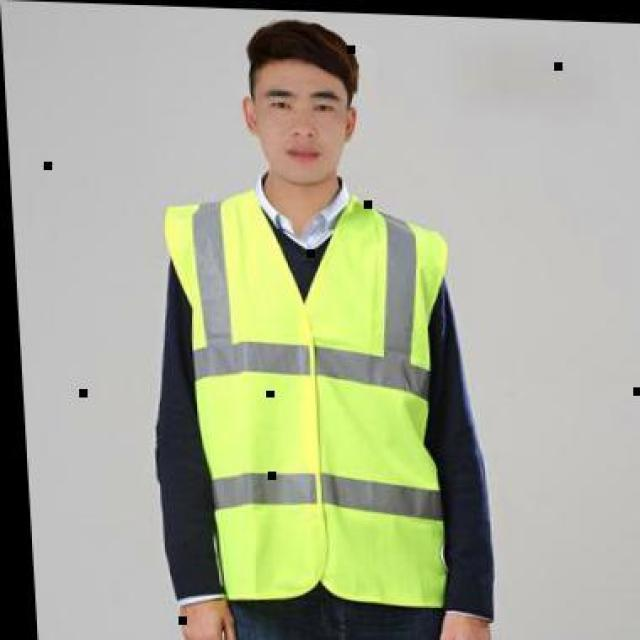safety_helmet: (165, 197, 451, 613)
